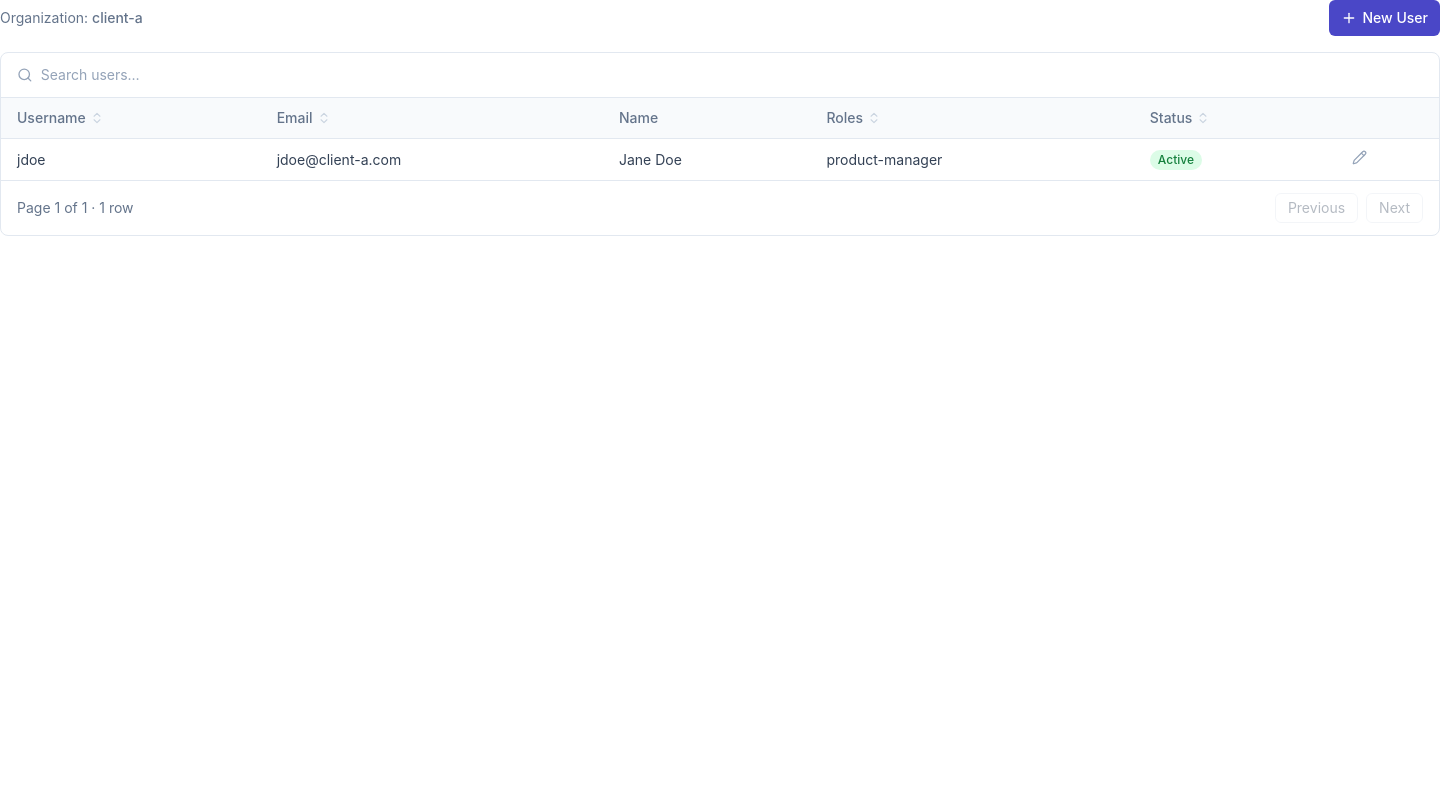
Test: UserList › tenant-admin branch › clicking Edit opens EditUserModal for that row, and saving reloads the list
This screenshot has width=1440, height=810.
Expected: the text "jdoe" is shown, [1,138,261,180]
What coordinates should you click on to do the following:
click the button named "Edit jdoe"
I would click on:
 (1360, 157)
Its box is [1352,150,1367,164].
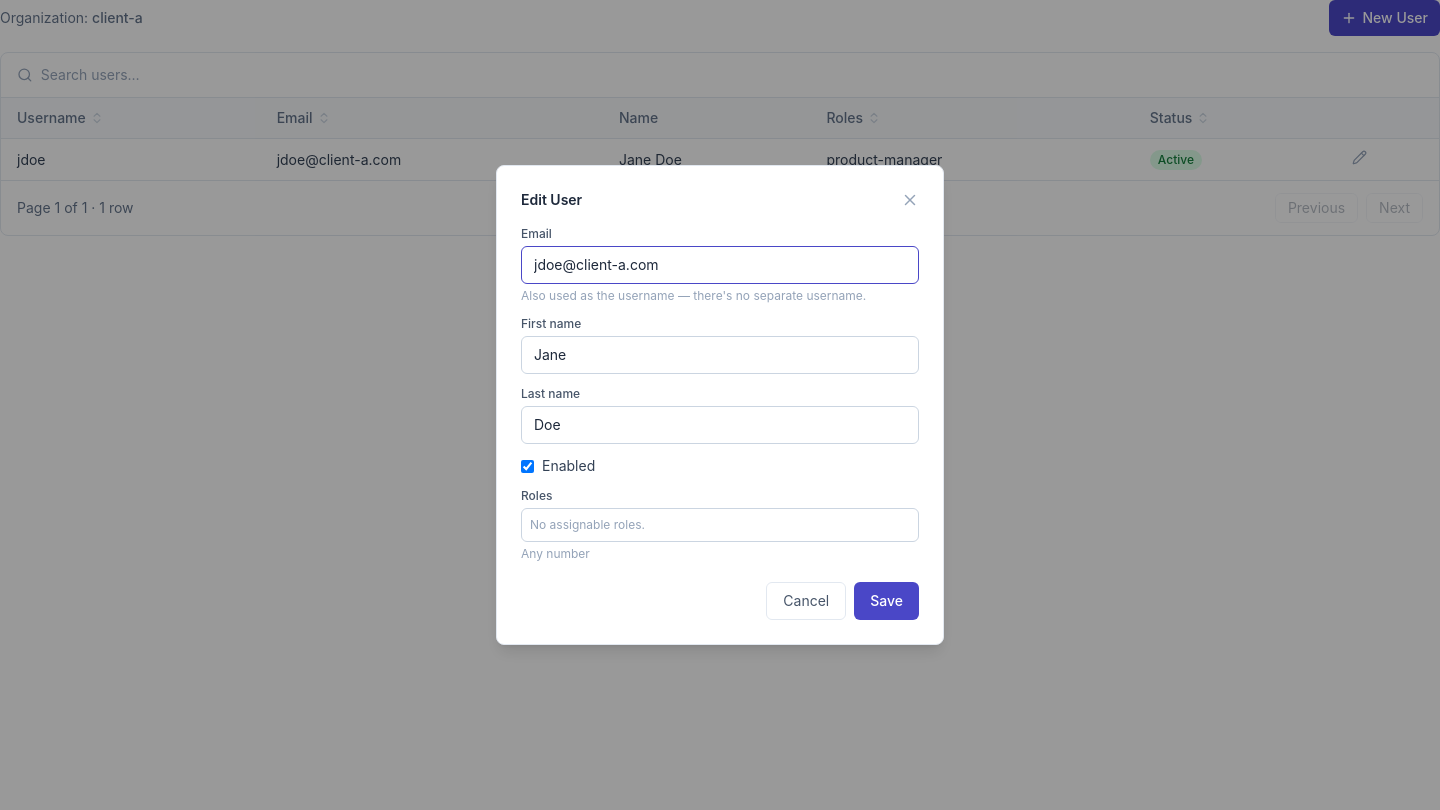
Expected: the heading "Edit User" is shown, [521,190,582,210]
What coordinates should you click on to do the following:
click the button "Save"
I would click on:
 (887, 601)
Its box is [854,582,919,620].
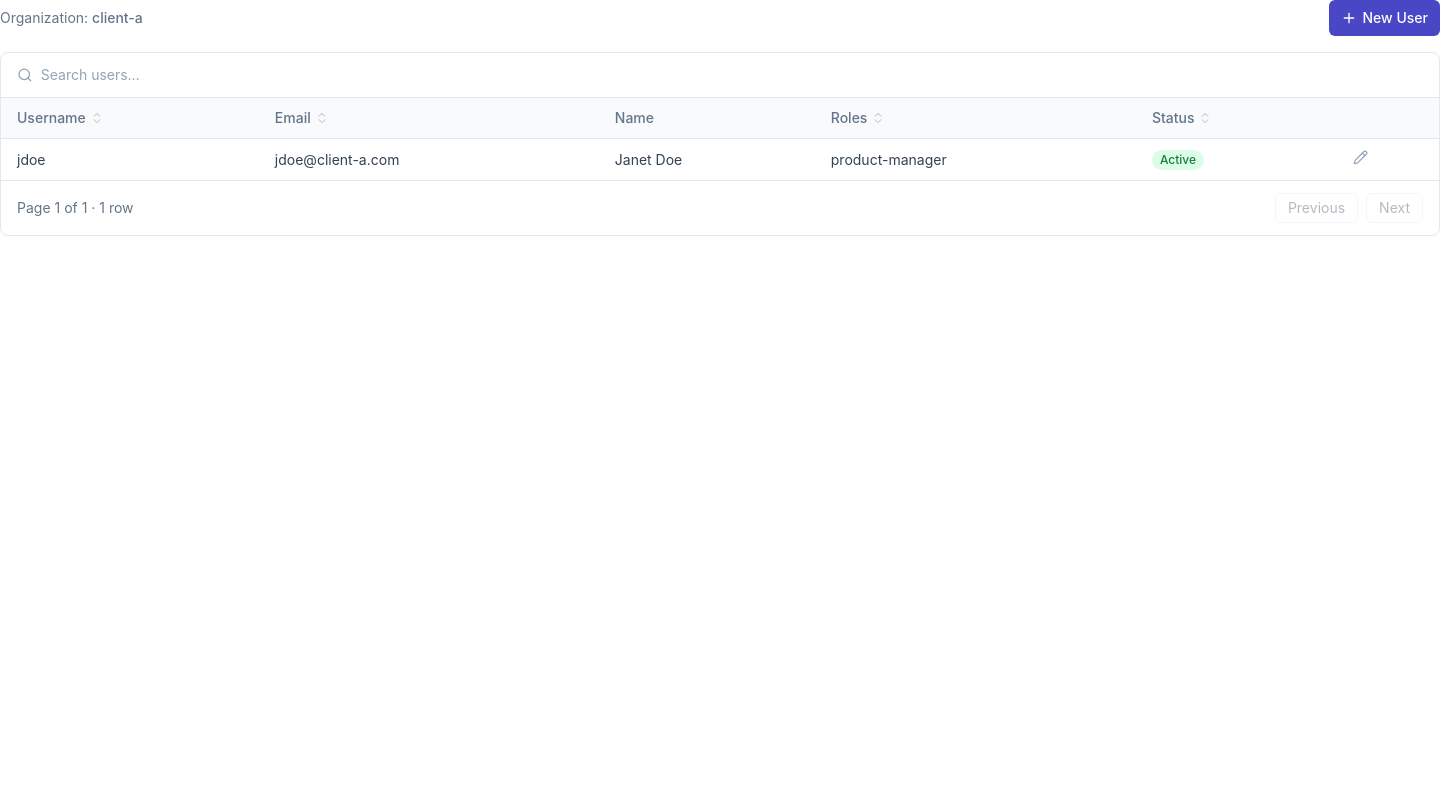
Expected: the heading "Edit User" is gone
